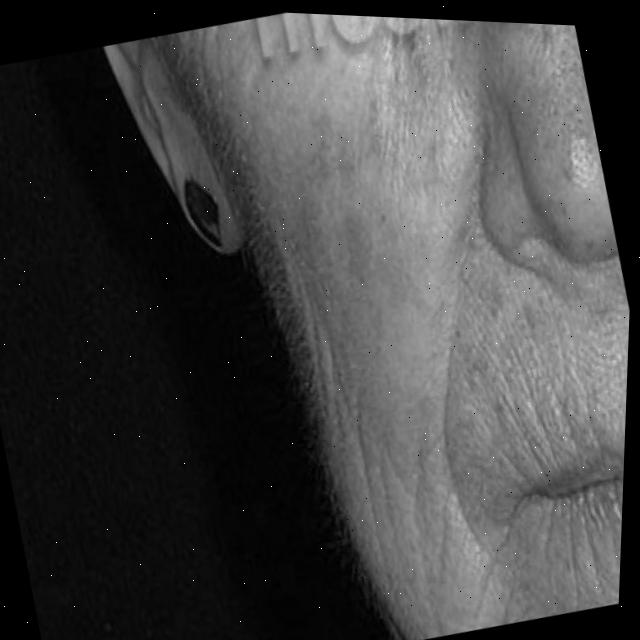Rosacea: (252, 12, 482, 309), (459, 21, 607, 194), (453, 267, 577, 379)
